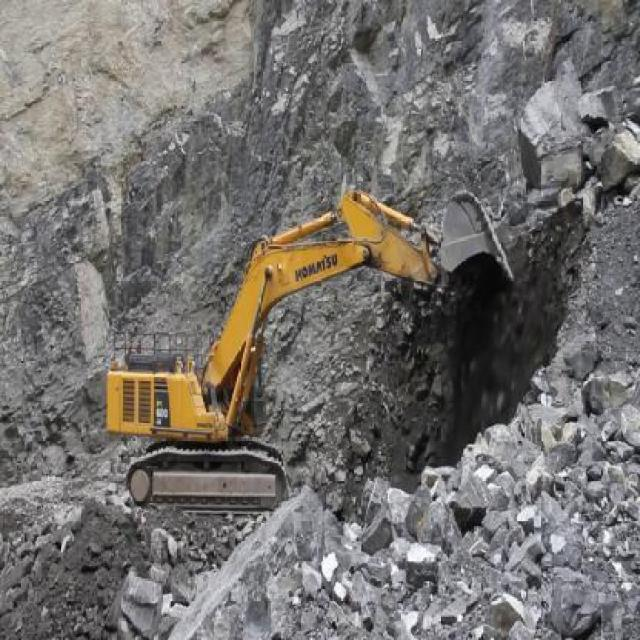Excavator: (106, 180, 512, 514)
